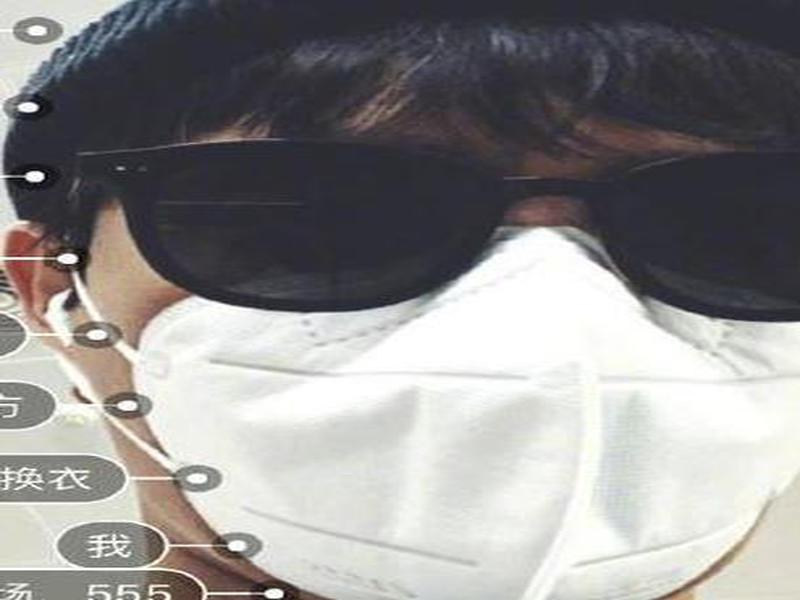with_mask: (26, 15, 800, 600)
